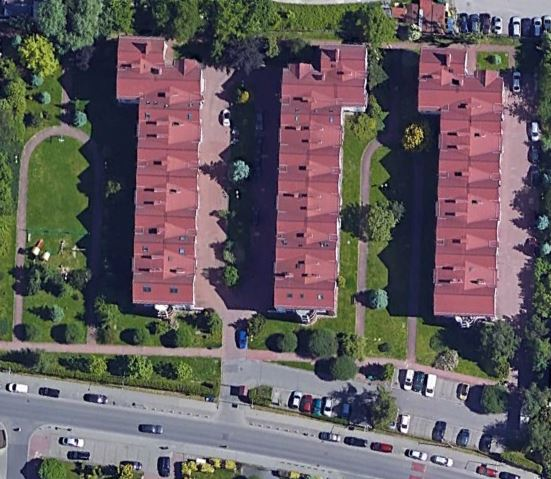block of flats: (267, 42, 373, 326), (112, 33, 209, 314), (412, 40, 506, 322)
